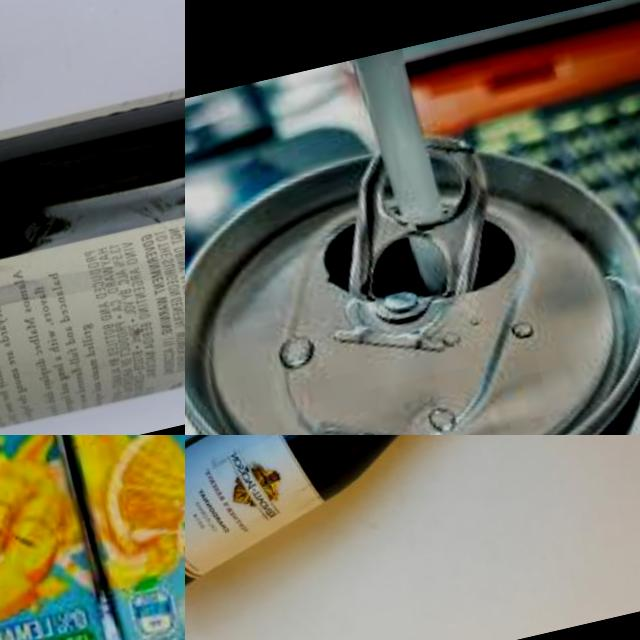aba de lata: (316, 115, 522, 312)
caixinha: (0, 435, 185, 640), (0, 435, 103, 640)
garrafa de vidro: (0, 64, 185, 435), (185, 435, 581, 603)
lata: (185, 100, 640, 435)
